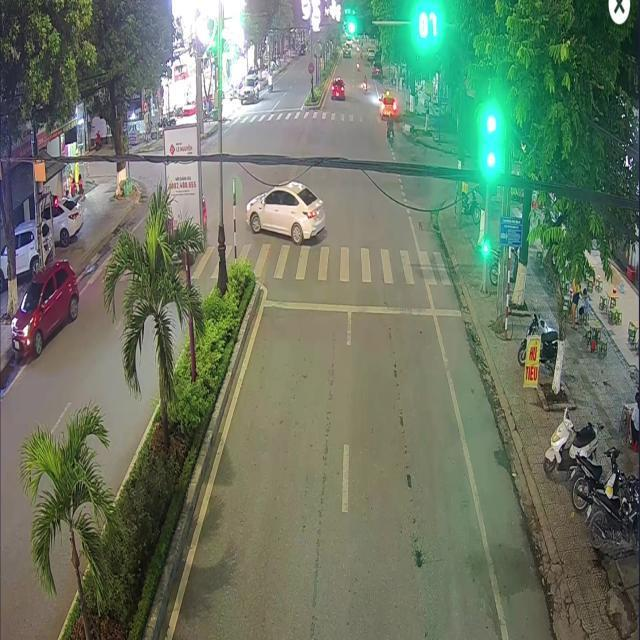car: (245, 181, 324, 243)
green_light: (484, 110, 498, 172), (345, 13, 372, 38)
stop_line: (262, 299, 460, 316)
